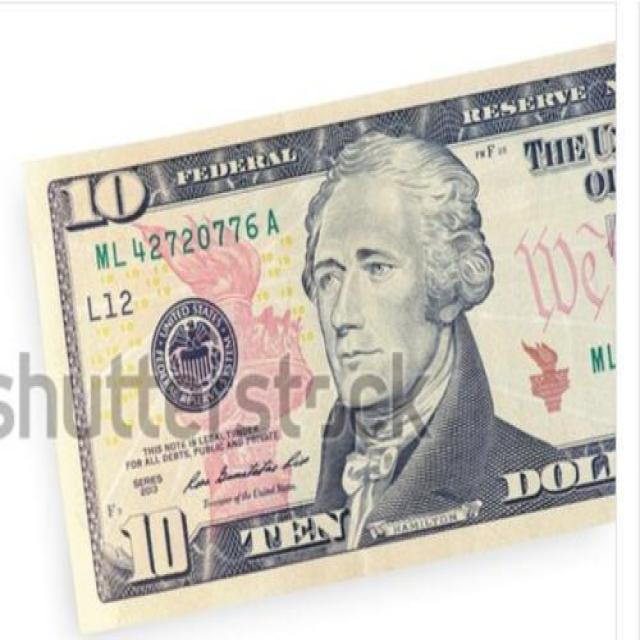10-Front: (17, 41, 618, 635)
